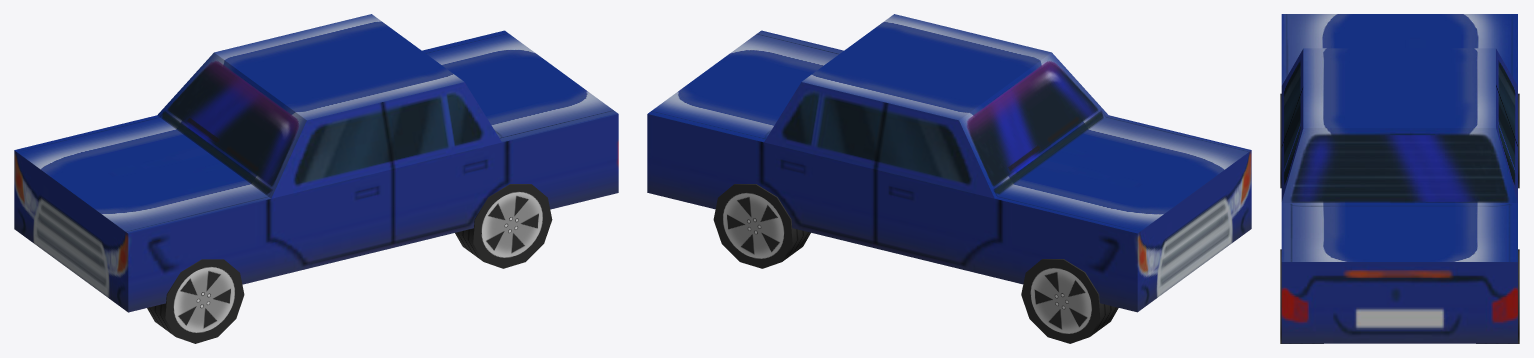
The model's file is avto_3.FBX.
3 renders of one model, left to right at view 1: azimuth 30°, elevation 25°; view 2: azimuth 150°, elevation 25°; view 3: azimuth 270°, elevation 25°, orthographic. The views are drawn at different scales.
Parts seen in each view (by area): view 1: car003, Cylinder024, Cylinder022; view 2: car003, Cylinder025, Cylinder023; view 3: car003, Cylinder022, Cylinder025, Cylinder023, Cylinder024.
Boxes of the visible parts, x1,y1,x2,y2 form: car003: (14,14,618,312); Cylinder024: (147,259,244,343); Cylinder022: (455,184,552,268); car003: (647,14,1251,312); Cylinder025: (713,184,810,268); Cylinder023: (1021,259,1118,343); car003: (1281,14,1517,343); Cylinder022: (1280,249,1323,343); Cylinder025: (1476,249,1519,343); Cylinder023: (1518,93,1519,188); Cylinder024: (1280,93,1281,188).
Size of the model in its own units: 3.1 by 1.12 by 1.26.
Materials: 2 (2 with a texture image).
